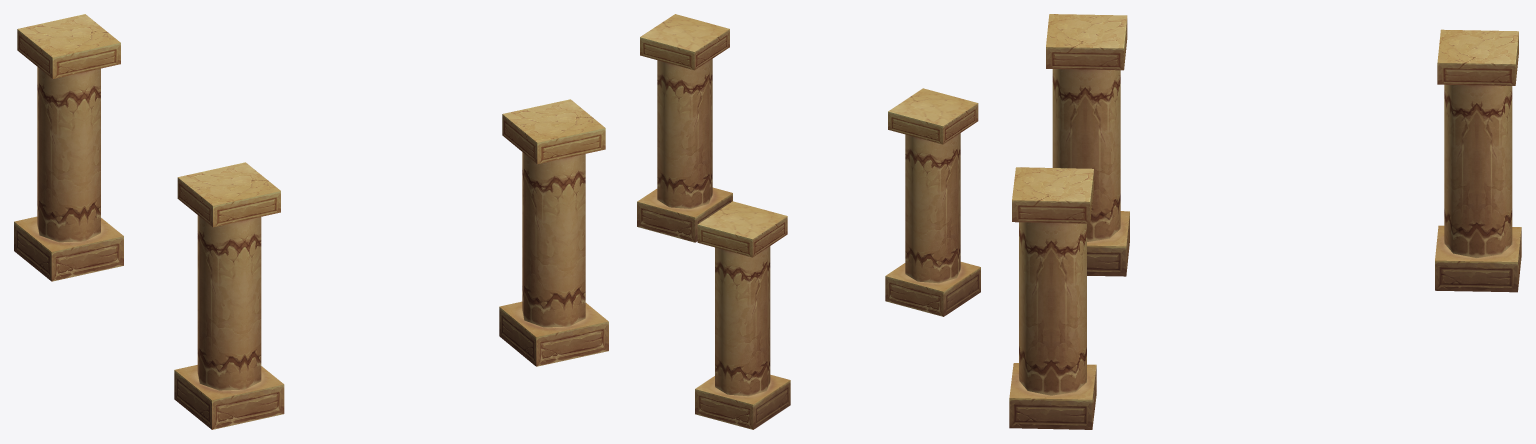
The model's file is Area_14_24.fbx.
The picture shows the model from 3 angles, left to right: view 1: azimuth 30°, elevation 25°; view 2: azimuth 150°, elevation 25°; view 3: azimuth 270°, elevation 25°; orthographic projection. The views are drawn at different scales.
Visible parts, largest first — view 1: Area_14_24; view 2: Area_14_24; view 3: Area_14_24.
Boxes of the visible parts, left/top/right/bottom form: Area_14_24: left=14, top=14, right=608, bottom=429; Area_14_24: left=637, top=14, right=980, bottom=429; Area_14_24: left=1009, top=14, right=1521, bottom=429.
Size of the model in its own units: 735 by 409 by 837.
